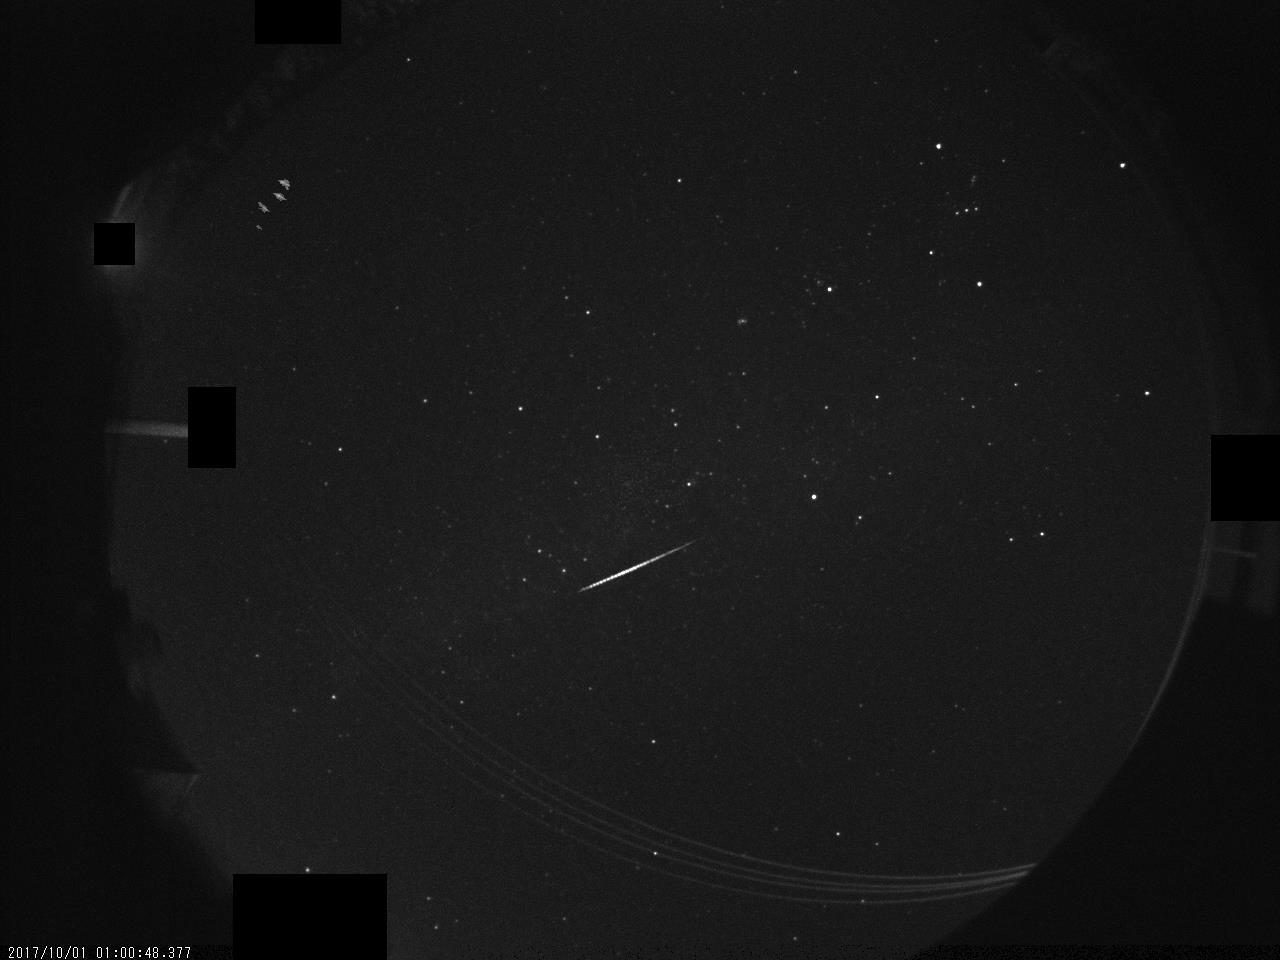TLE: (246, 168, 304, 242)
